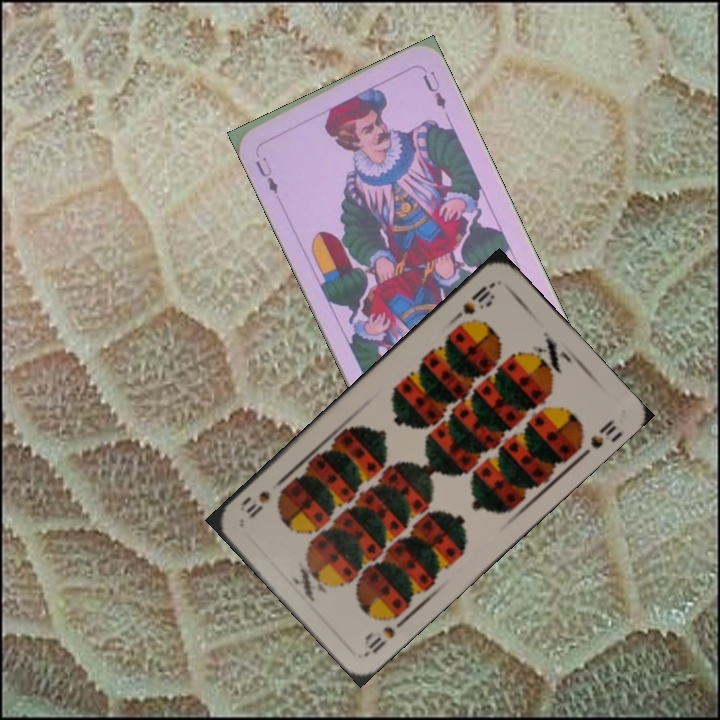EU: (251, 152, 281, 197)
S10: (360, 608, 411, 657), (449, 278, 497, 324)
